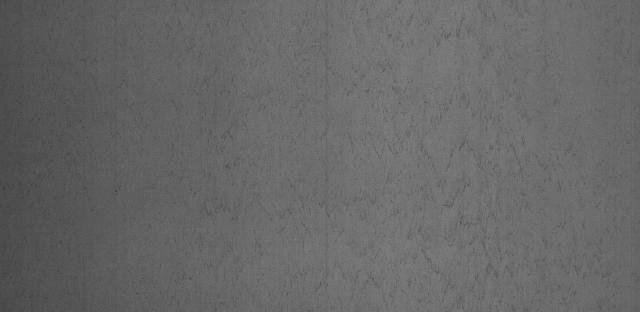silk_spot: (344, 14, 621, 295), (167, 13, 332, 286)
